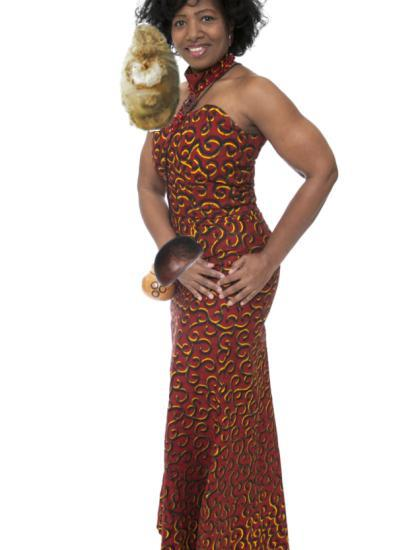Chestnut: (148, 231, 204, 287)
Ginger: (95, 23, 204, 132)
